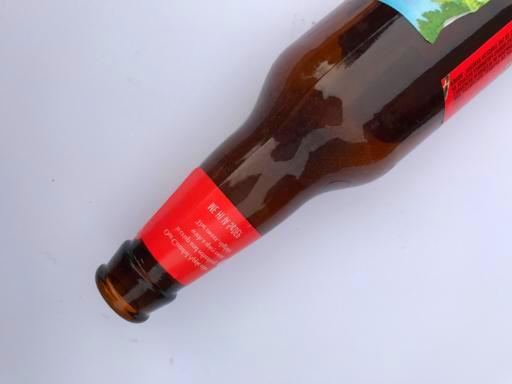alcohol: (95, 0, 512, 323)
glass: (95, 0, 512, 323)
sodocalcique: (95, 0, 512, 323)
